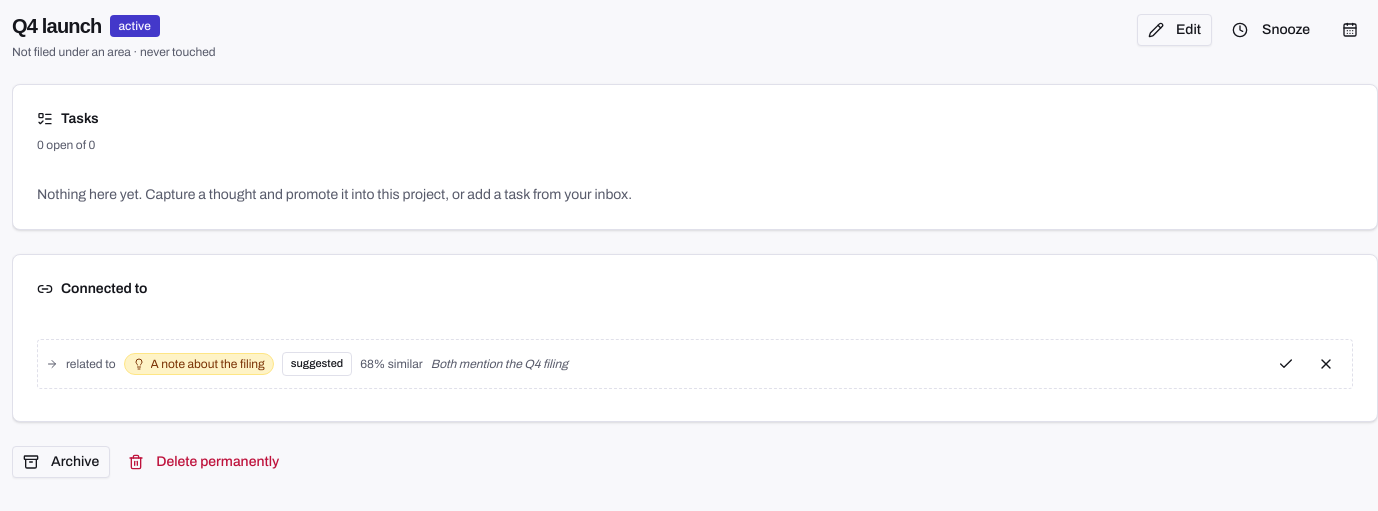
Scenario: ProjectDetail › brings a connection back when accepting it failed to save
Click the button named "accept the connection to A note about the filing": point(1286, 364) [1268,348,1304,380]
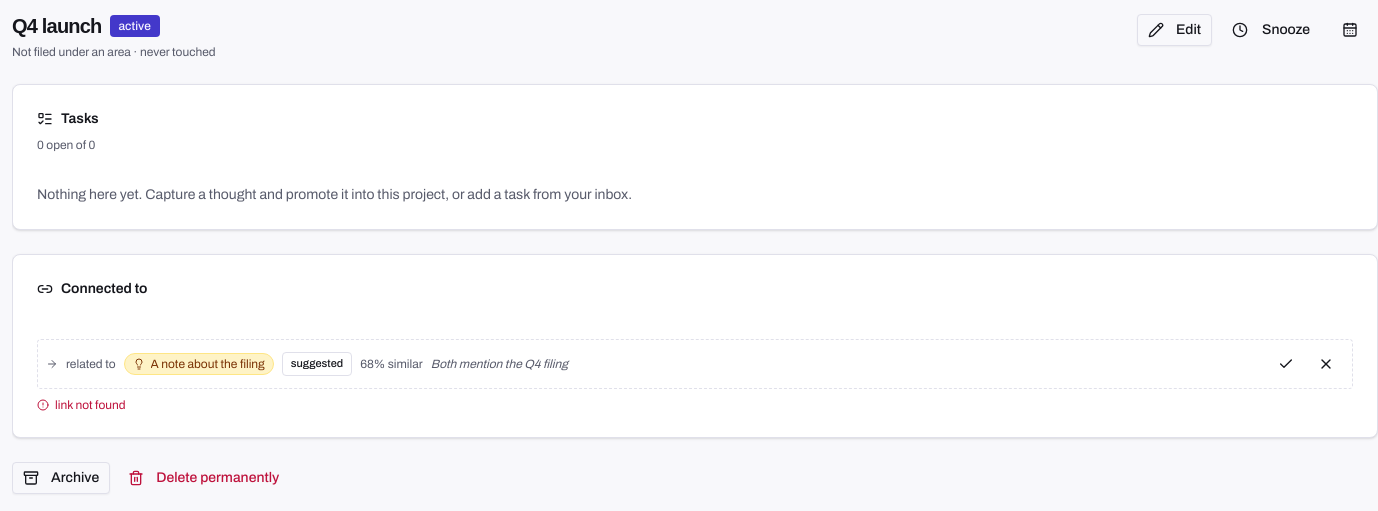
Expected: the text "A note about the filing" is shown, [150,356,265,372]
Expected: the text "link not found" is shown, [37,398,126,412]
